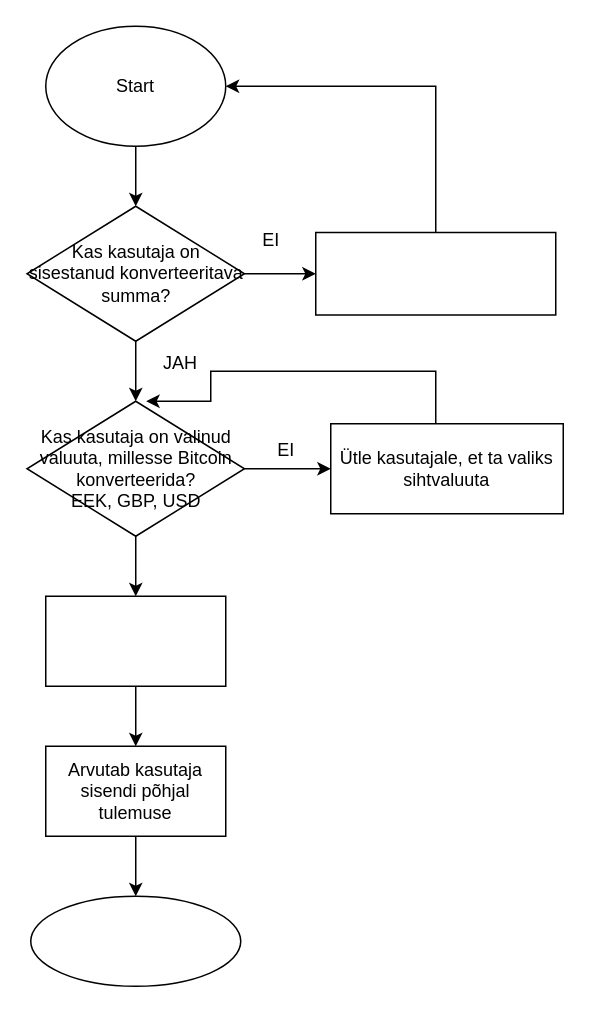
This 590x1013 diagram has some shape labels left out. Here are the shapes that lost their labels. From the top down, the centre of each, then its label:
(435,273): Ütle kasutajale, et ta sisestaks arvväärtuse, mida saaks konventeerida valuutaks
(135,640): Kasutaja esitab bitcoini apile päringu, bitcoini hetkeväärtuse saamiseks
(135,940): Lõpp
